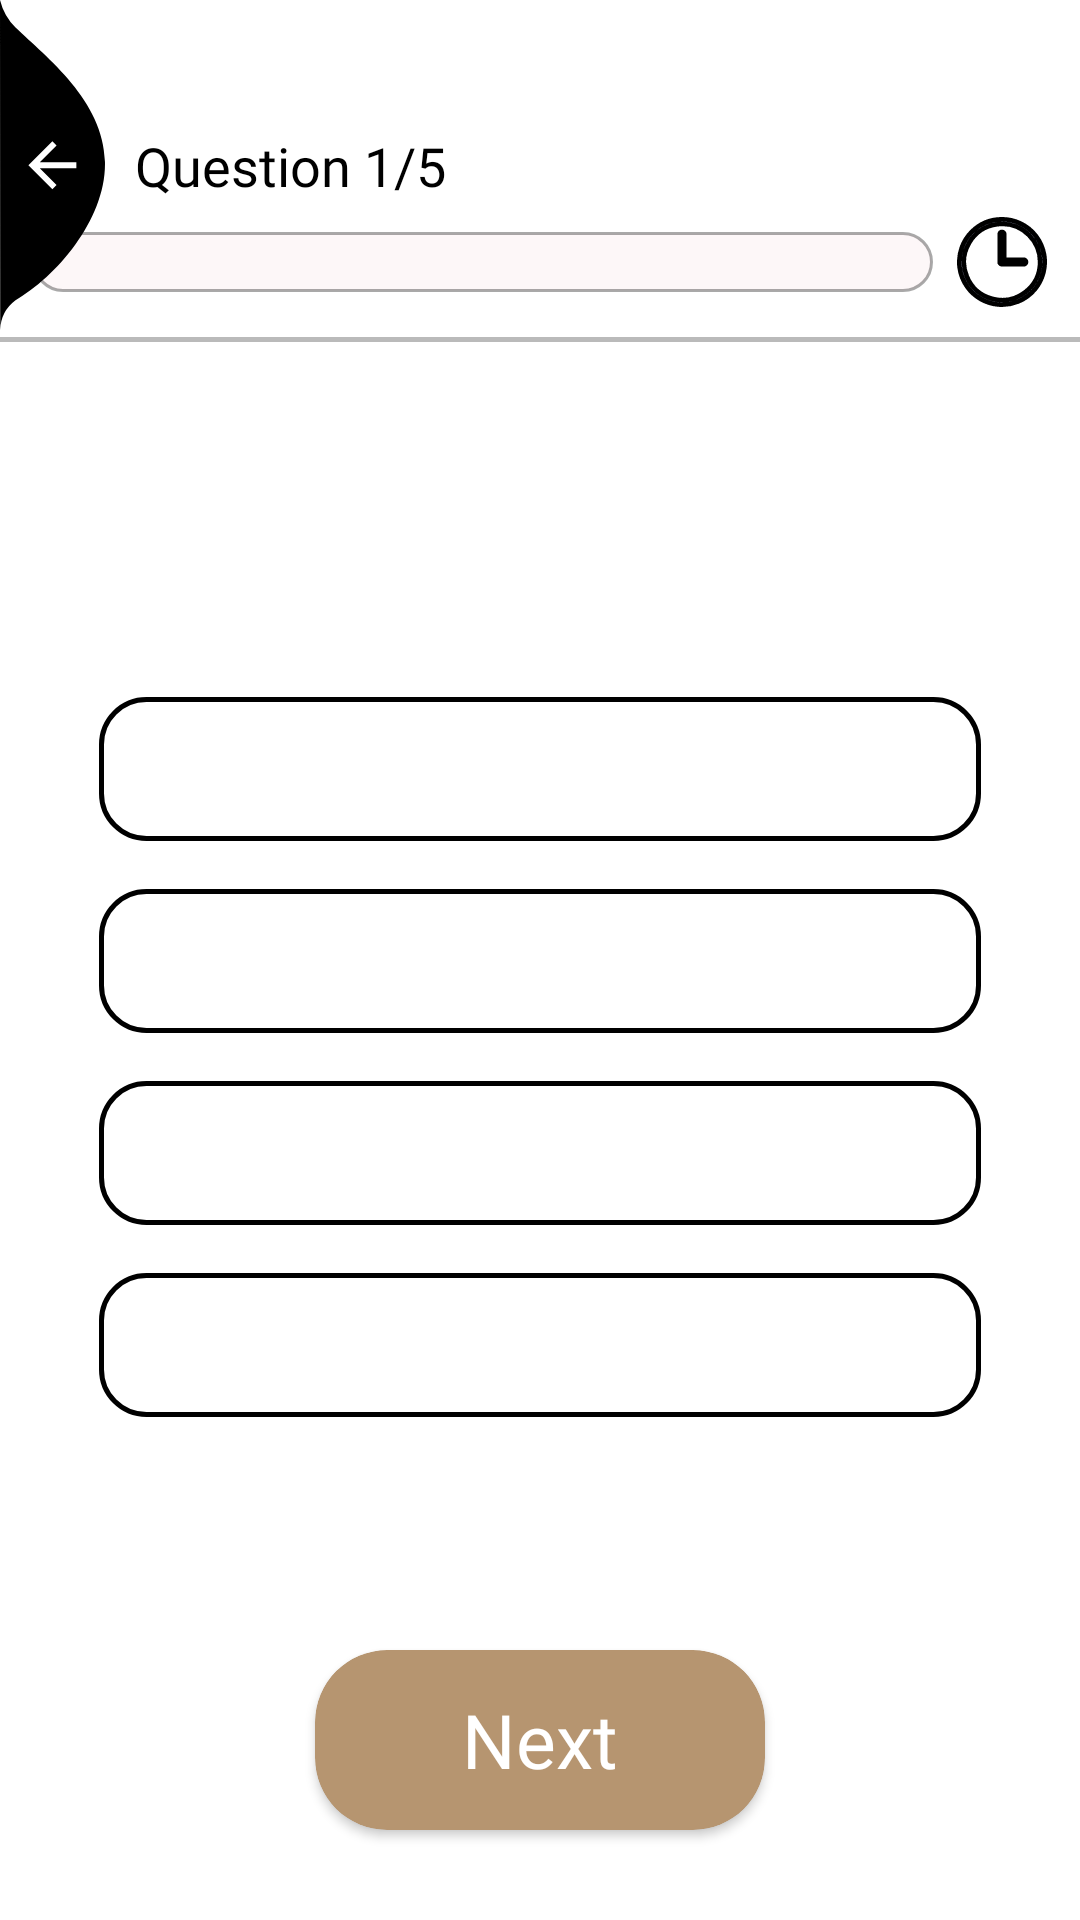

Named icons in this screenshot (1080*1920) and their centers, (x=x, y=y):
back: (x=52, y=164)
clock: (x=1002, y=262)
